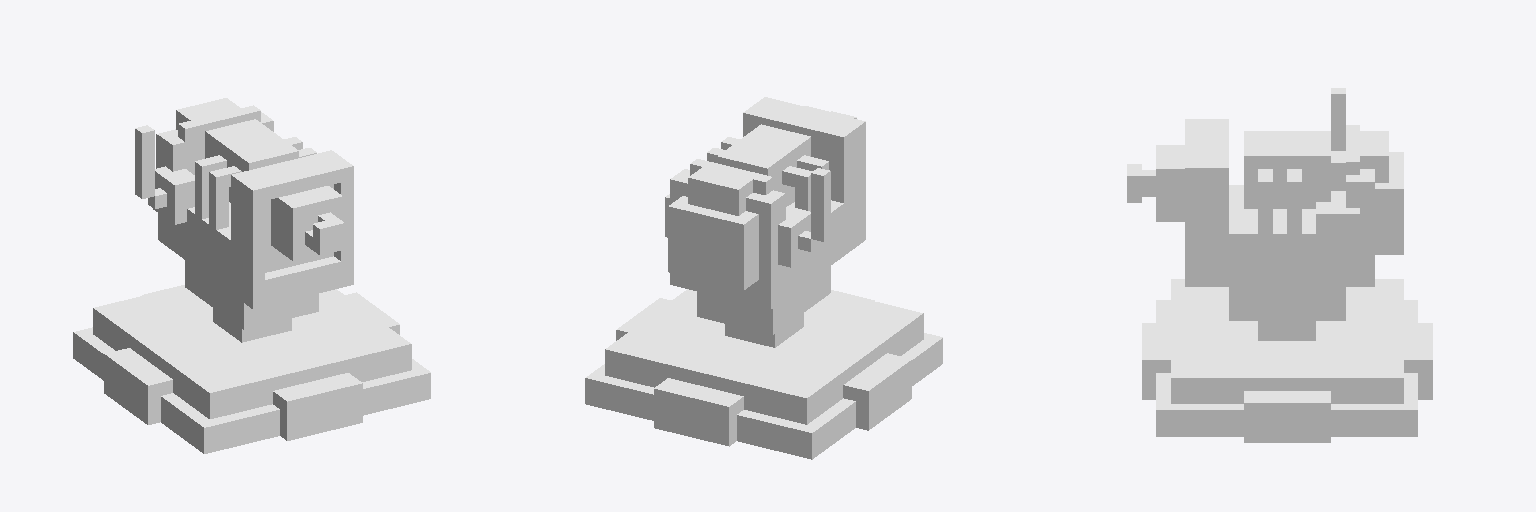
Rendered from Turret(Tower_Defens)-2.obj.
The picture shows the model from 3 angles: view 1: azimuth 30°, elevation 25°; view 2: azimuth 150°, elevation 25°; view 3: azimuth 270°, elevation 25°; orthographic projection.
Visible parts, largest first — view 1: object 1; view 2: object 1; view 3: object 1.
Boxes of the visible parts, x1=… form: object 1: x1=73, y1=98, x2=430, y2=453; object 1: x1=585, y1=97, x2=942, y2=459; object 1: x1=1127, y1=88, x2=1432, y2=442.
Size of the model in its own units: 2 by 1.9 by 2.1.